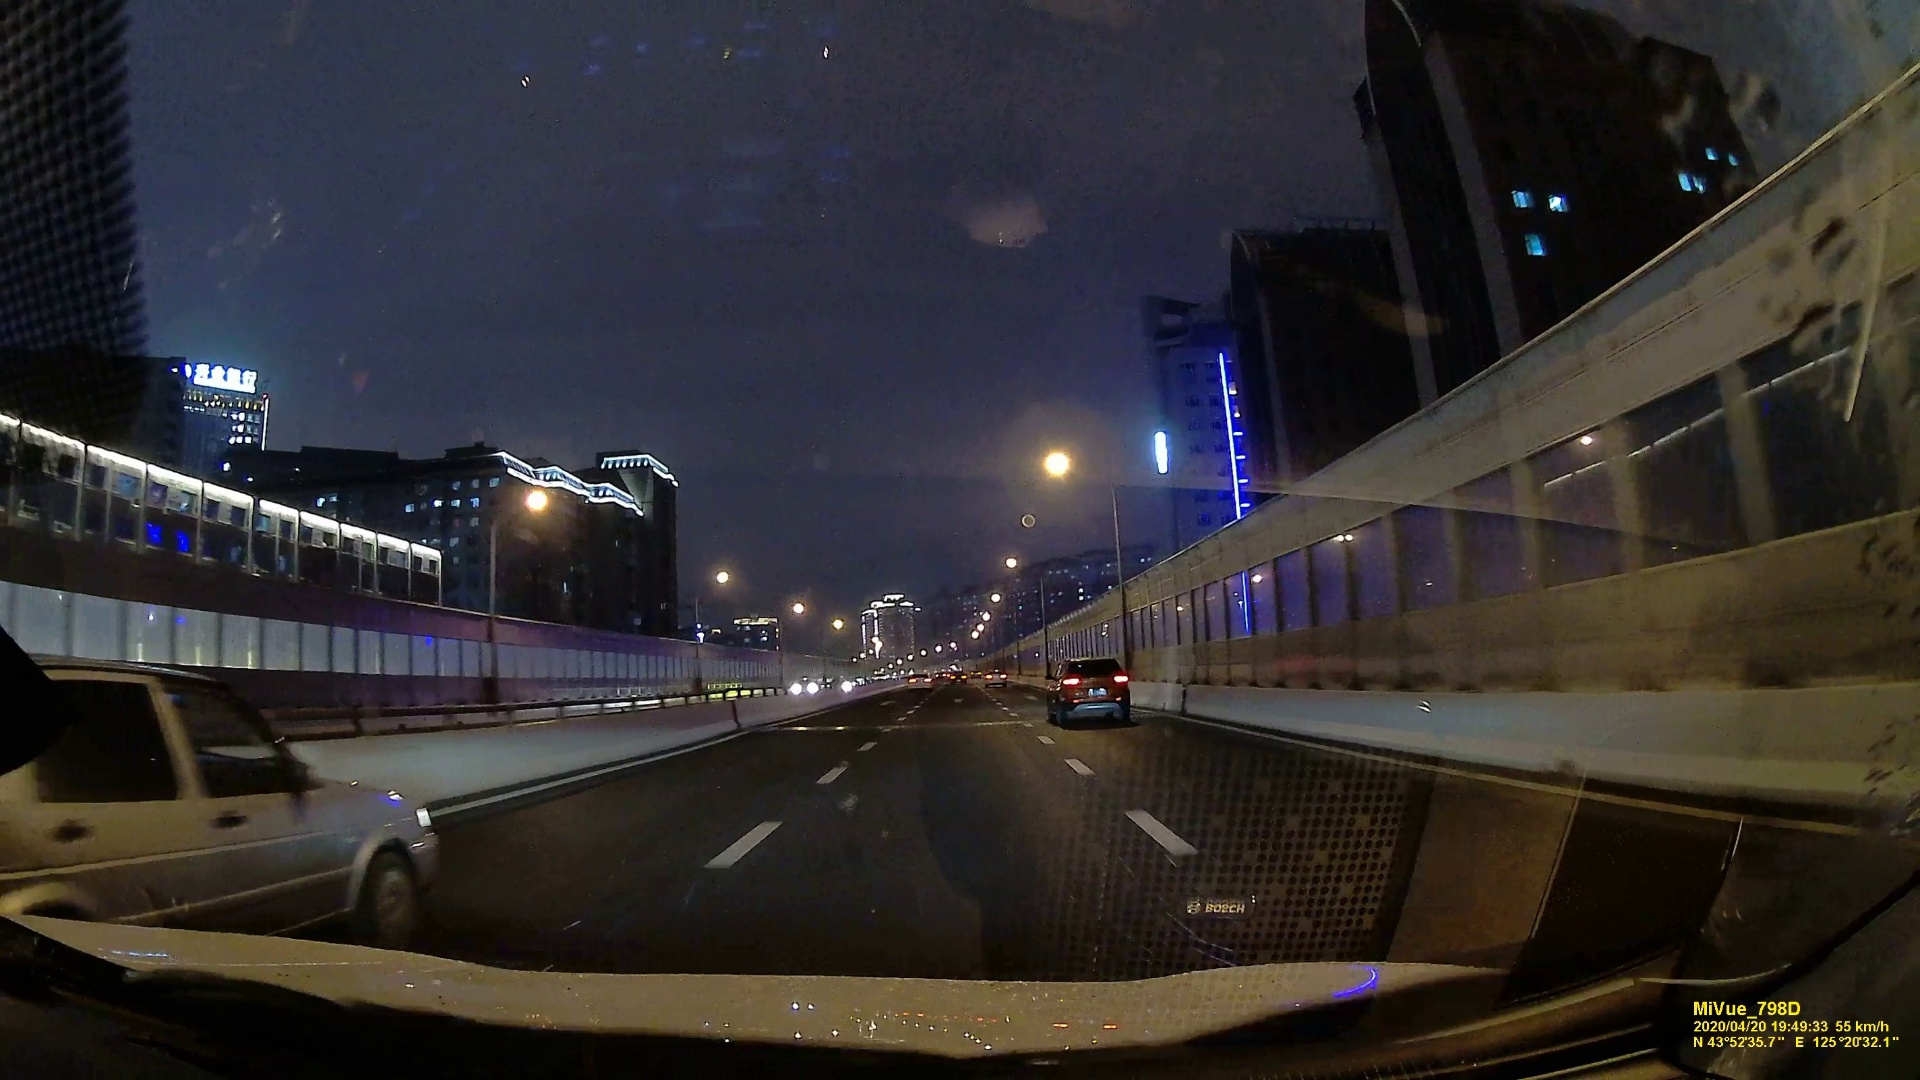vehicle: (1, 673, 429, 952), (1044, 657, 1133, 723), (789, 676, 827, 696), (985, 667, 1007, 688), (909, 671, 934, 690)
